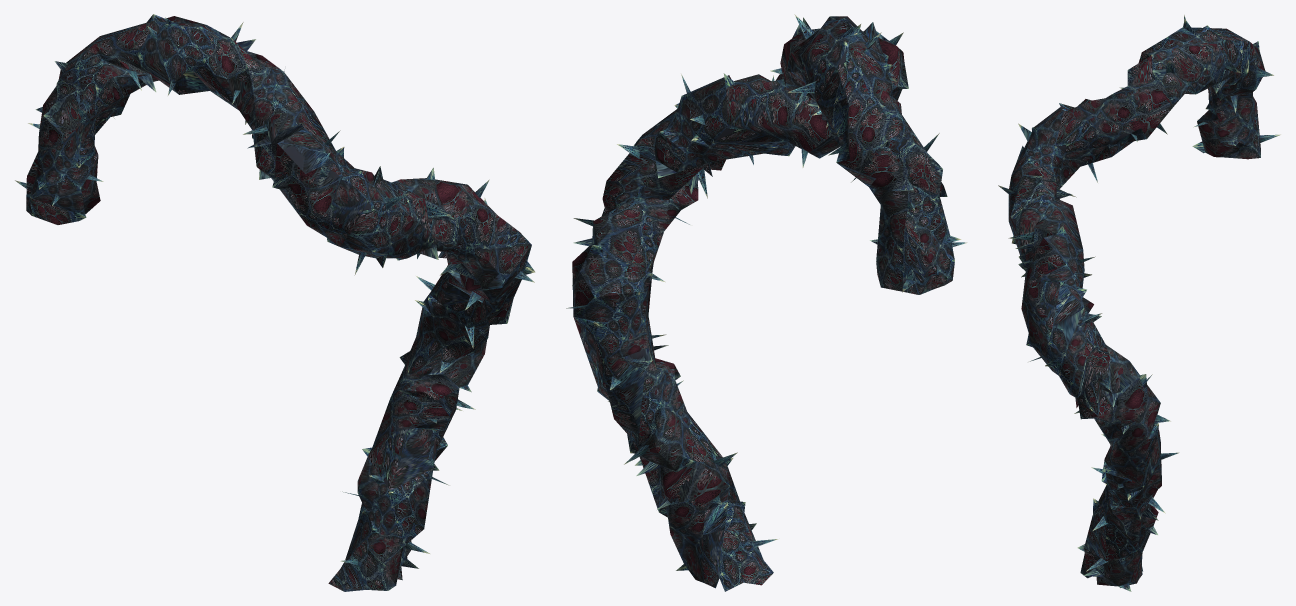
File: L03_Heltree18.fbx
The picture shows the model from 3 angles, left to right: view 1: azimuth 30°, elevation 25°; view 2: azimuth 150°, elevation 25°; view 3: azimuth 270°, elevation 25°; orthographic projection. The views are drawn at different scales.
Visible parts, largest first — view 1: LODGroup_3_MainMesh_1_SubMesh_1, LODGroup_3_MainMesh_1_SubMesh_2; view 2: LODGroup_3_MainMesh_1_SubMesh_1, LODGroup_3_MainMesh_1_SubMesh_2; view 3: LODGroup_3_MainMesh_1_SubMesh_1, LODGroup_3_MainMesh_1_SubMesh_2.
Boxes of the visible parts, left/top/right/bottom form: LODGroup_3_MainMesh_1_SubMesh_1: left=15, top=20, right=534, bottom=590; LODGroup_3_MainMesh_1_SubMesh_2: left=26, top=14, right=535, bottom=591; LODGroup_3_MainMesh_1_SubMesh_1: left=566, top=14, right=967, bottom=582; LODGroup_3_MainMesh_1_SubMesh_2: left=573, top=16, right=961, bottom=591; LODGroup_3_MainMesh_1_SubMesh_1: left=998, top=15, right=1280, bottom=586; LODGroup_3_MainMesh_1_SubMesh_2: left=1008, top=19, right=1261, bottom=591.
Size of the model in its own units: 2447 by 3210 by 1686.
